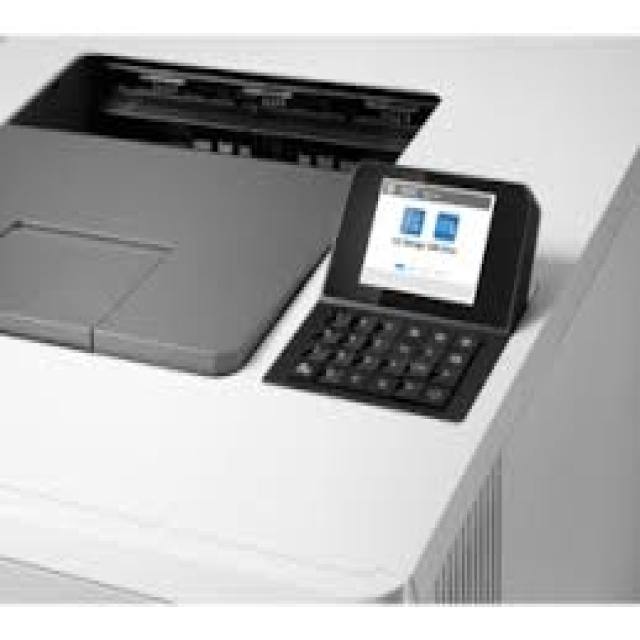printer: (0, 26, 638, 604)
